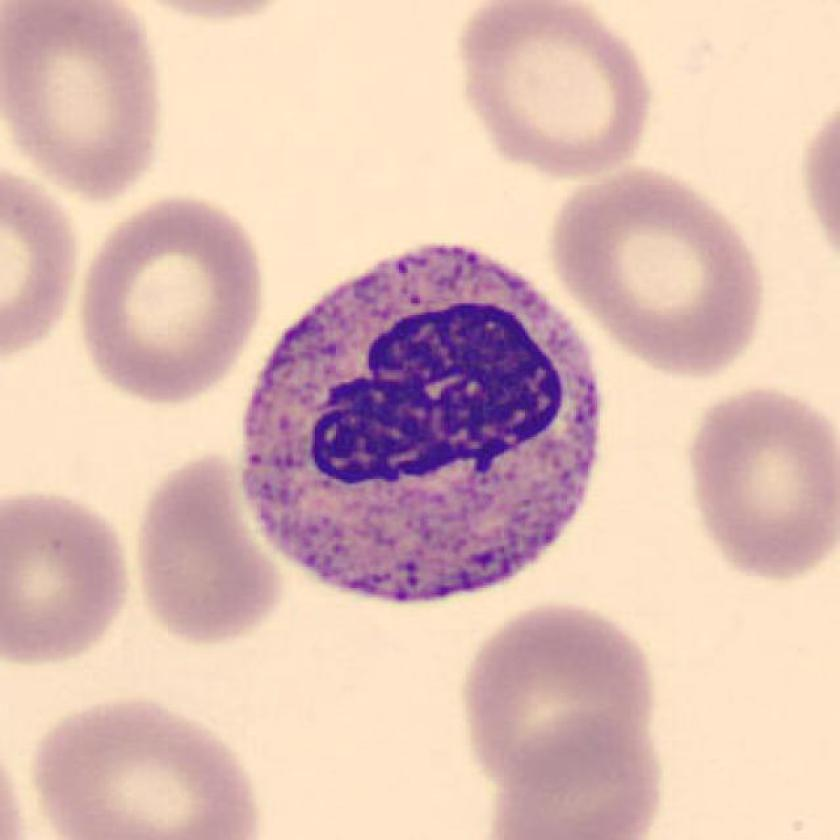neutrophil: (244, 243, 602, 596)
